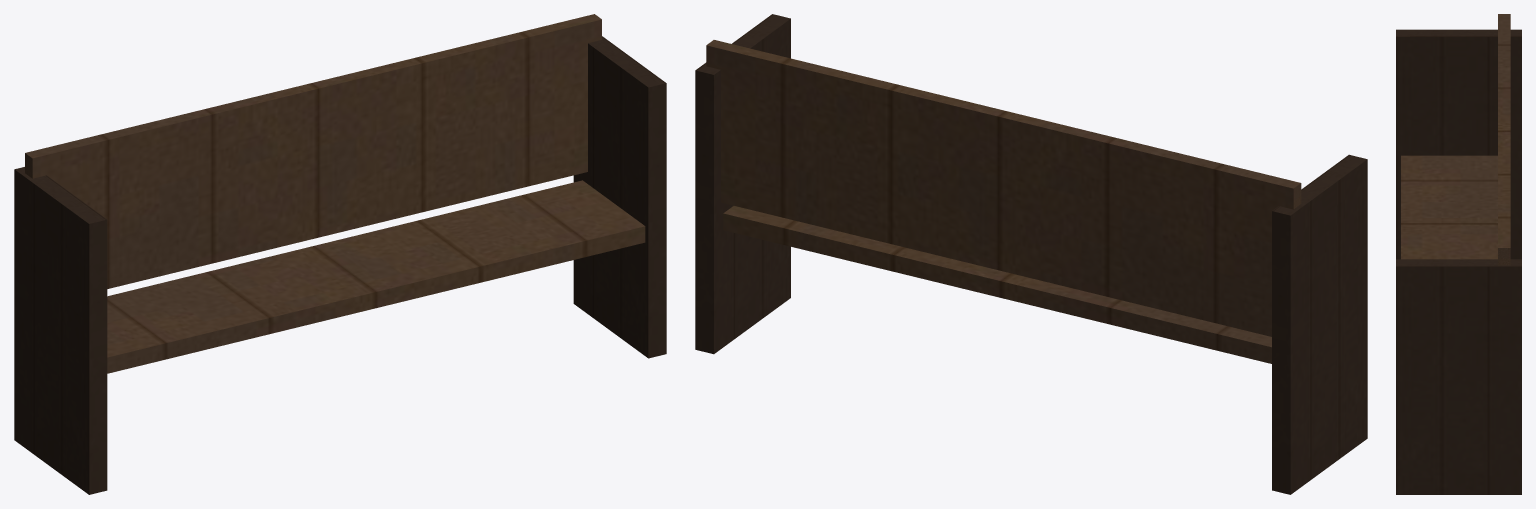
File: pew_lod2.glb
3 views of the same model, side by side, from view 1: azimuth 30°, elevation 25°; view 2: azimuth 150°, elevation 25°; view 3: azimuth 270°, elevation 25° (orthographic). The views are drawn at different scales.
Visible parts, largest first — view 1: pew; view 2: pew; view 3: pew.
Part boxes in pixels (<box>): pew: <box>14,14,666,494</box>; pew: <box>695,14,1367,494</box>; pew: <box>1396,14,1521,494</box>.
Size of the model in its own units: 2.23 by 1.08 by 0.5.
1 material, 1 textured.
